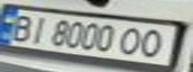0: (96, 21, 121, 53), (81, 20, 103, 52), (63, 18, 84, 50)
8: (48, 16, 72, 47)
B: (3, 11, 39, 43)
I: (24, 15, 54, 45)
O: (133, 27, 172, 58), (115, 25, 148, 56)
